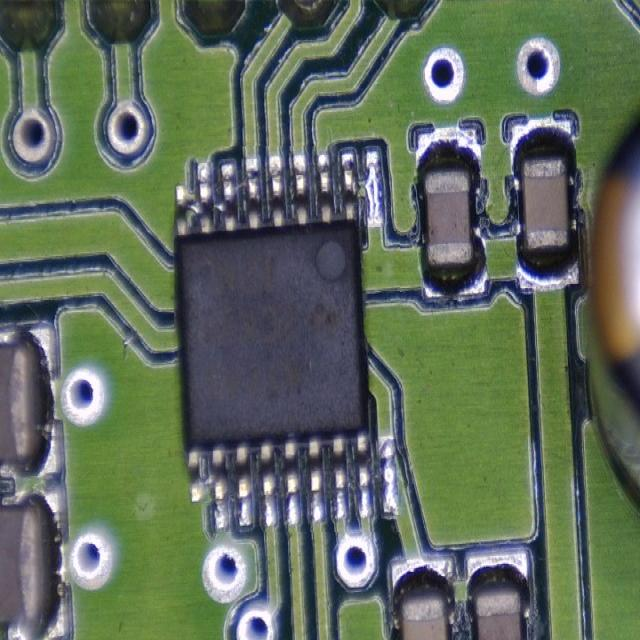Incorrect_installation: (175, 147, 400, 531)
